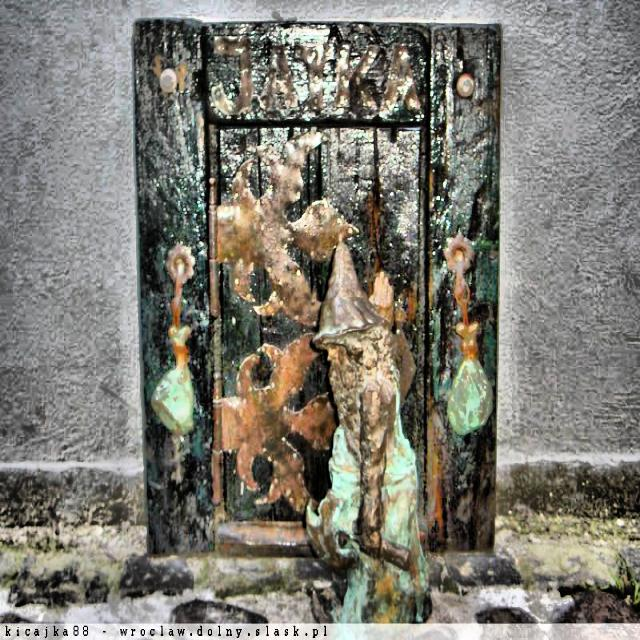Rzeznik: (306, 242, 430, 622)
